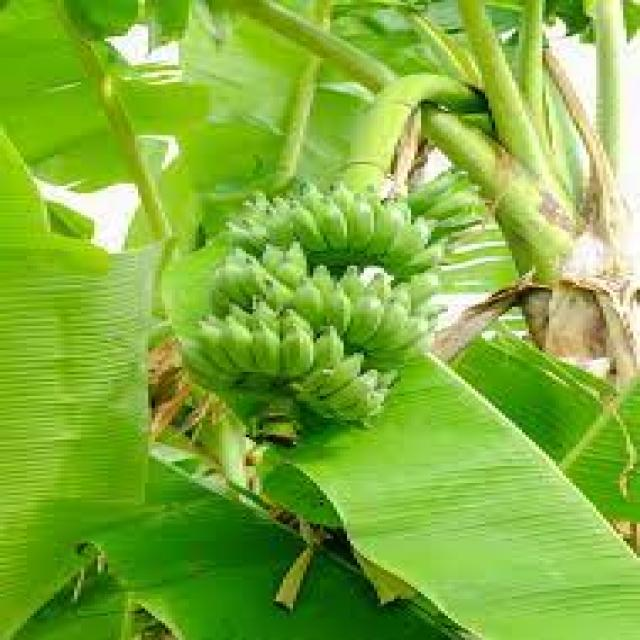banana: (181, 165, 462, 428)
